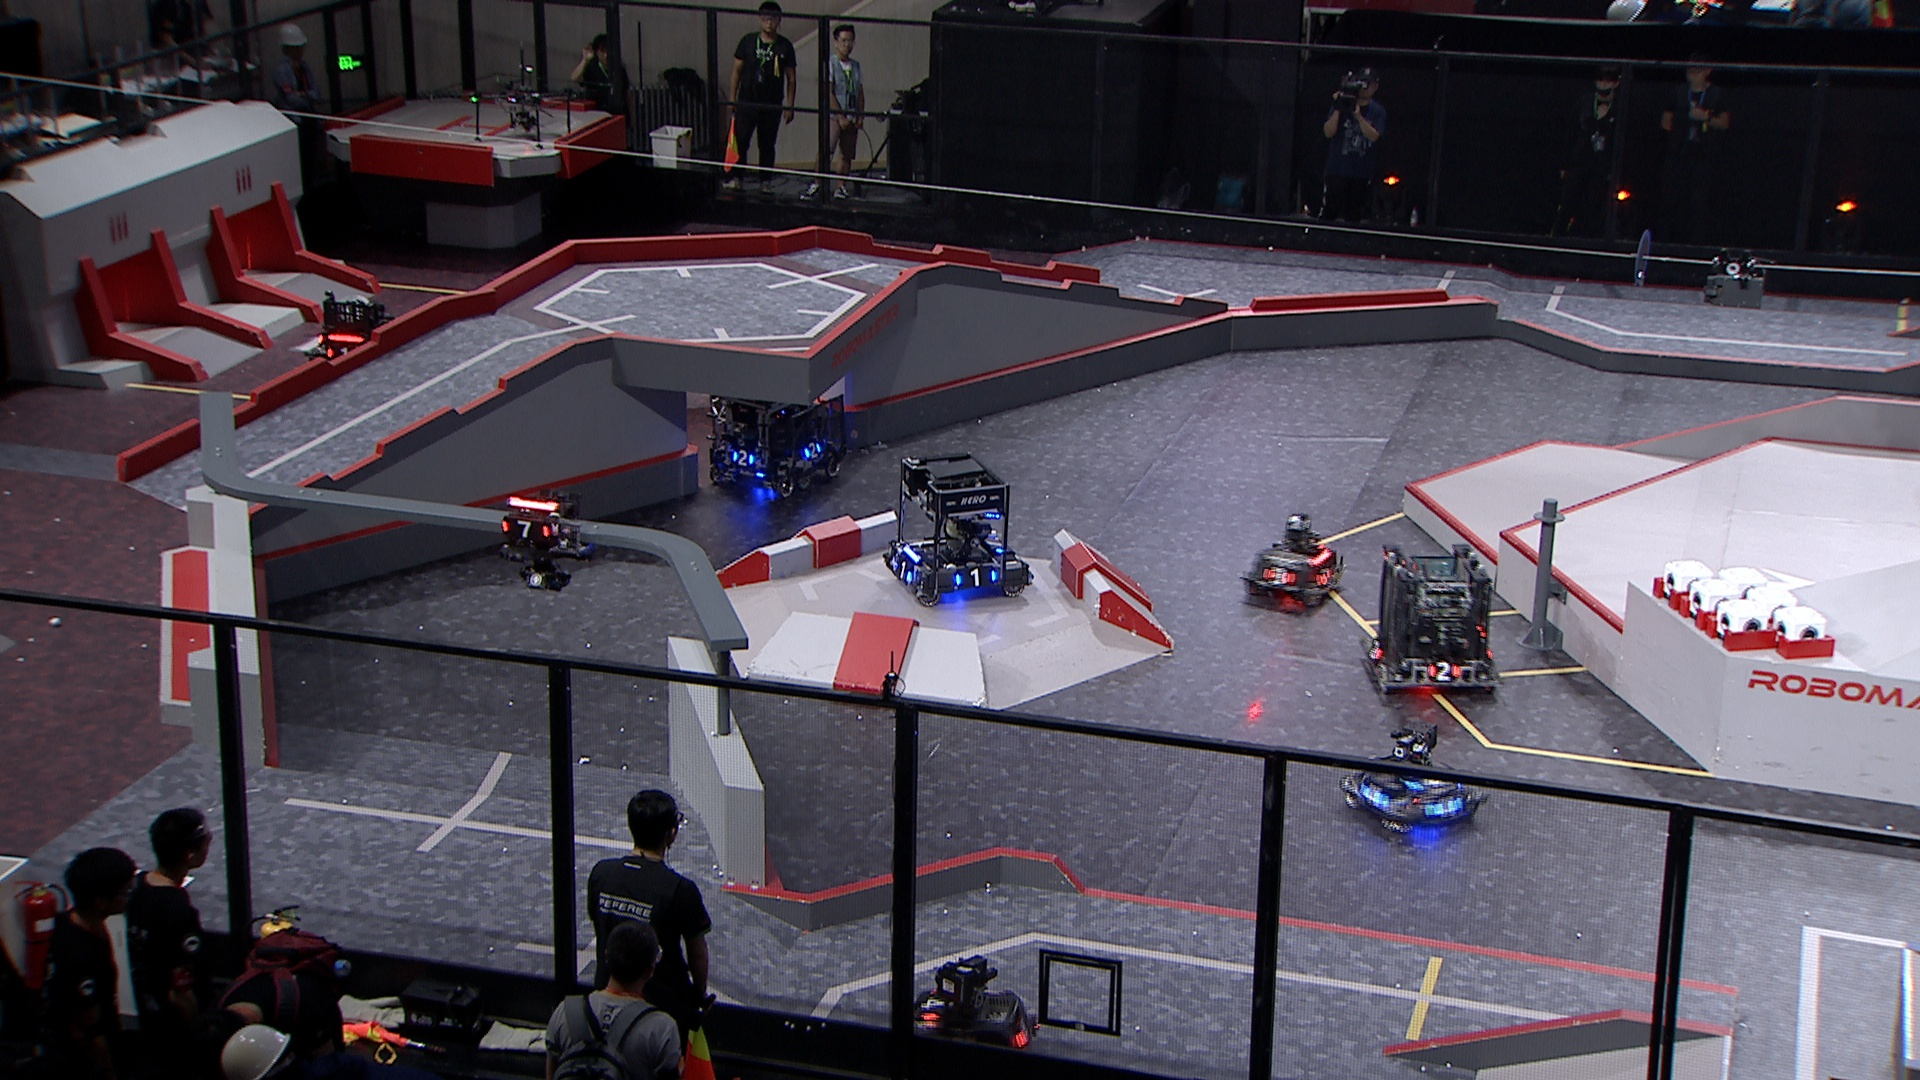armor: (498, 518, 550, 538), (1358, 785, 1393, 812), (949, 567, 994, 585), (918, 986, 940, 1021), (1429, 659, 1460, 683), (1408, 770, 1443, 790), (1425, 796, 1461, 815), (1263, 564, 1292, 585), (893, 562, 916, 583), (731, 450, 756, 469), (1015, 1014, 1031, 1044), (328, 343, 349, 361), (1316, 564, 1333, 585), (1367, 638, 1382, 659), (803, 442, 822, 458)
car: (884, 448, 1030, 608), (1361, 541, 1501, 703), (1342, 717, 1485, 844), (707, 375, 849, 498), (905, 949, 1044, 1072), (297, 287, 404, 392), (1242, 514, 1346, 611)
watcher: (487, 485, 595, 591)
